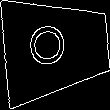O_E: (34, 24, 79, 73)
